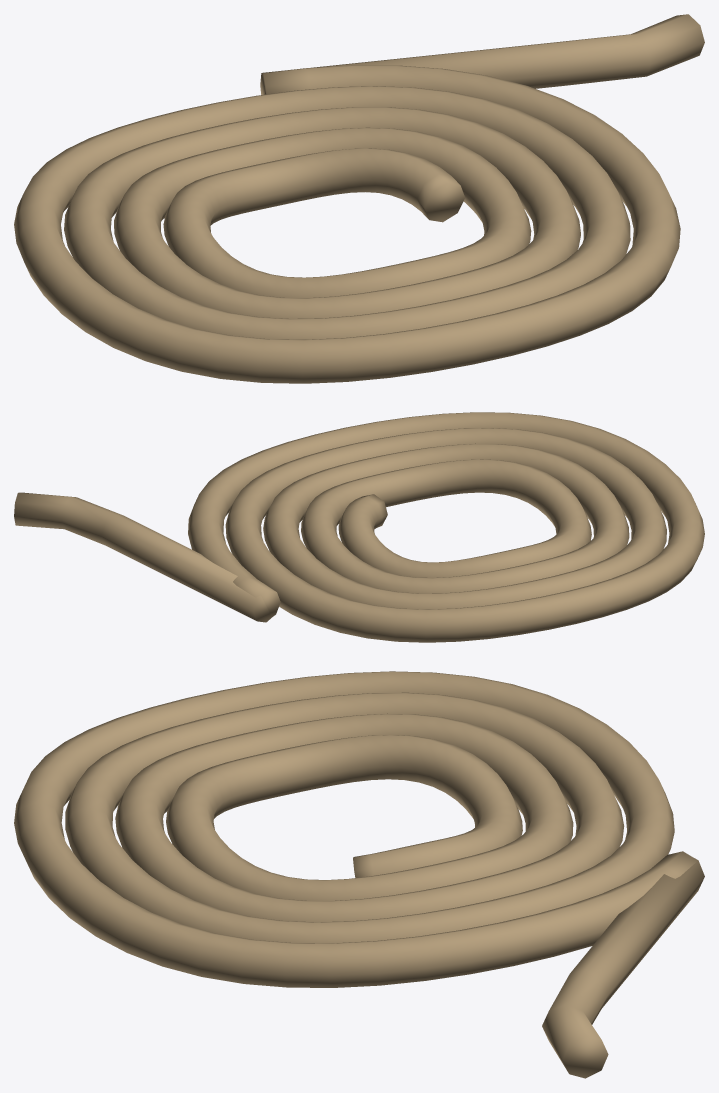
File: rope-coil.glb
3 views of the same model, one above another, from view 1: azimuth 30°, elevation 25°; view 2: azimuth 150°, elevation 25°; view 3: azimuth 270°, elevation 25° (orthographic). The views are drawn at different scales.
Visible parts, largest first — view 1: rope-coil__Visual_matte; view 2: rope-coil__Visual_matte; view 3: rope-coil__Visual_matte.
Part boxes in pixels (left/top/right/bottom): rope-coil__Visual_matte: left=14, top=14, right=704, bottom=383; rope-coil__Visual_matte: left=14, top=412, right=704, bottom=642; rope-coil__Visual_matte: left=14, top=671, right=704, bottom=1078.
Bounding box in the file's own units: 0.8892 × 0.064 × 0.6954.
